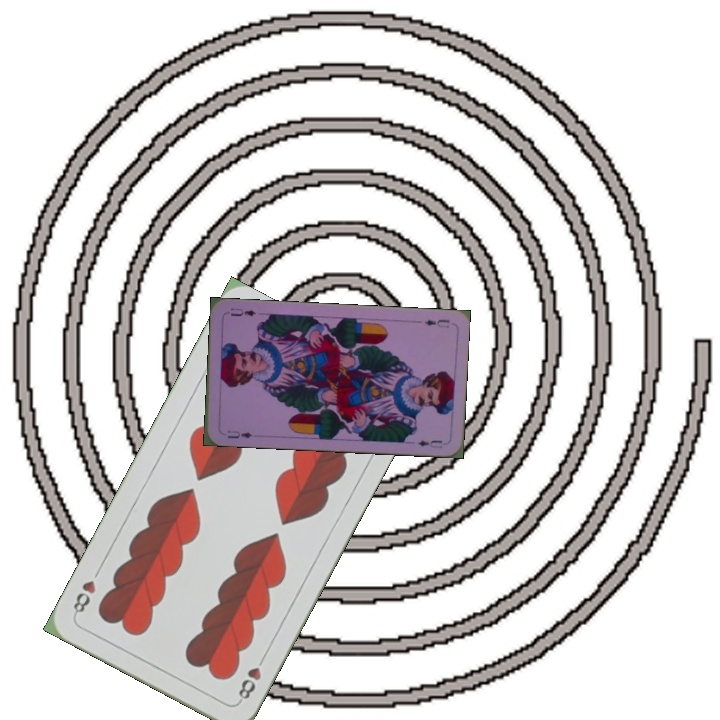EU: (224, 426, 259, 441), (421, 315, 452, 331)
H8: (234, 651, 268, 705)
